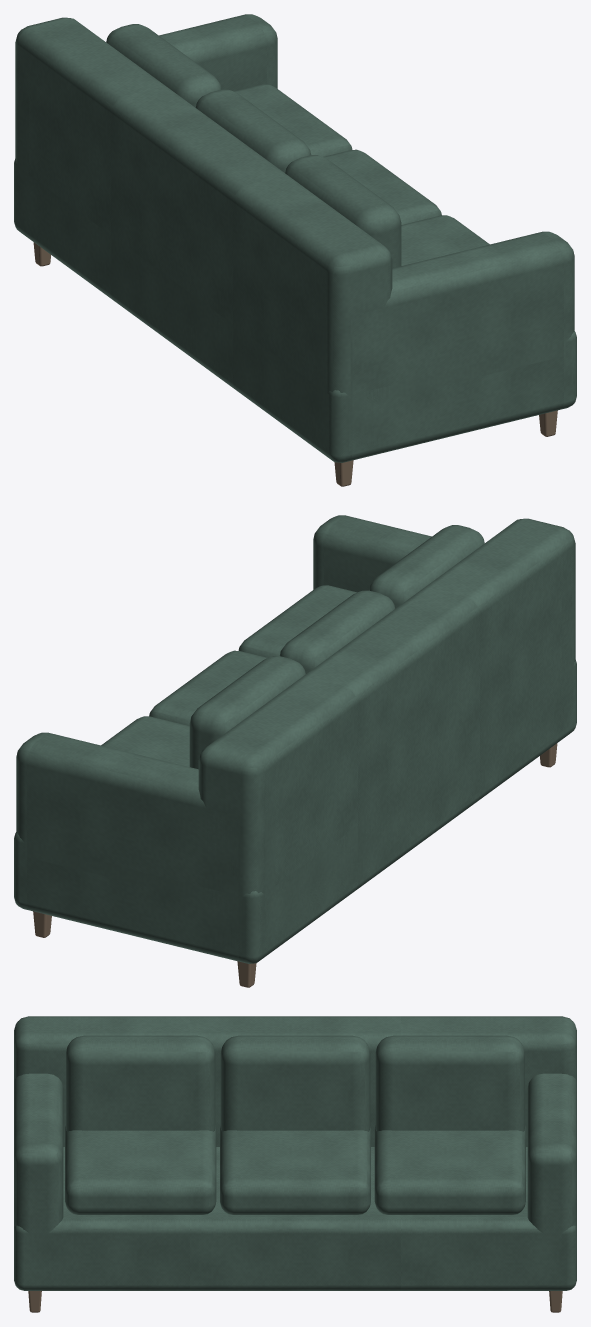
File: mueble.sillon.fbx
The picture shows the model from 3 angles, top to bottom: view 1: azimuth 30°, elevation 25°; view 2: azimuth 150°, elevation 25°; view 3: azimuth 270°, elevation 25°; orthographic projection. The views are drawn at different scales.
Visible parts, largest first — view 1: Respaldo, Base, Brazo.001, Brazo, Cojin del respaldo.002, Cojin del respaldo.001, Cojin del respaldo, Cojin del asiento.001, Cojin del asiento, Cojin del asiento.002; view 2: Respaldo, Brazo, Base, Brazo.001, Cojin del respaldo, Cojin del respaldo.001, Cojin del respaldo.002, Cojin del asiento.001, Cojin del asiento.002, Cojin del asiento; view 3: Base, Respaldo, Cojin del respaldo.001, Cojin del respaldo, Cojin del respaldo.002, Cojin del asiento, Cojin del asiento.002, Cojin del asiento.001, Brazo, Brazo.001.
Part boxes in pixels (x1,y1,x2,y2): Respaldo: [15, 17, 392, 450]; Base: [14, 159, 576, 462]; Brazo.001: [315, 231, 574, 407]; Brazo: [18, 14, 277, 185]; Cojin del respaldo.002: [285, 155, 401, 268]; Cojin del respaldo.001: [195, 89, 311, 172]; Cojin del respaldo: [106, 24, 221, 107]; Cojin del asiento.001: [323, 149, 441, 224]; Cojin del asiento: [234, 84, 352, 156]; Cojin del asiento.002: [401, 215, 489, 265]; Respaldo: [198, 518, 575, 951]; Brazo: [16, 732, 275, 908]; Base: [14, 660, 576, 963]; Brazo.001: [313, 515, 572, 688]; Cojin del respaldo: [189, 656, 305, 769]; Cojin del respaldo.001: [279, 590, 395, 673]; Cojin del respaldo.002: [369, 525, 484, 608]; Cojin del asiento.001: [149, 650, 267, 725]; Cojin del asiento.002: [238, 585, 356, 657]; Cojin del asiento: [101, 716, 189, 766]; Base: [14, 1147, 576, 1290]; Respaldo: [14, 1016, 576, 1146]; Cojin del respaldo.001: [220, 1035, 370, 1131]; Cojin del respaldo: [375, 1035, 524, 1131]; Cojin del respaldo.002: [66, 1035, 215, 1131]; Cojin del asiento: [374, 1125, 525, 1214]; Cojin del asiento.002: [65, 1125, 216, 1214]; Cojin del asiento.001: [220, 1126, 370, 1214]; Brazo: [527, 1073, 576, 1244]; Brazo.001: [14, 1073, 63, 1242].
Size of the model in its own units: 0.7 by 0.66 by 1.6.
2 materials, 1 textured.
